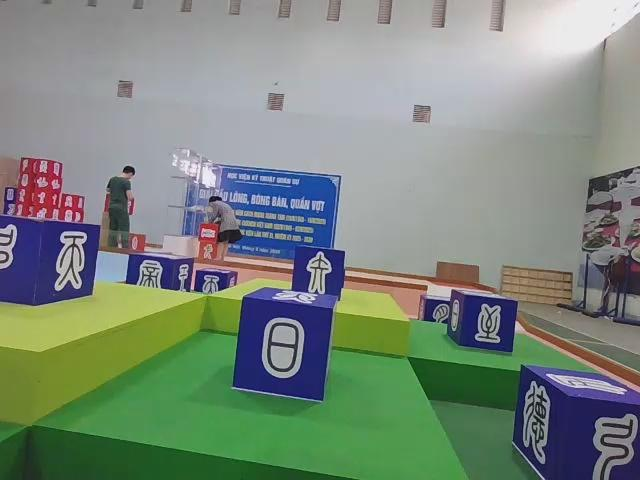R2 Fake Blue: (511, 367, 639, 480), (232, 287, 340, 403), (1, 215, 103, 309), (448, 290, 519, 355), (293, 245, 348, 302), (126, 253, 195, 293), (194, 268, 239, 293), (417, 296, 451, 324)
